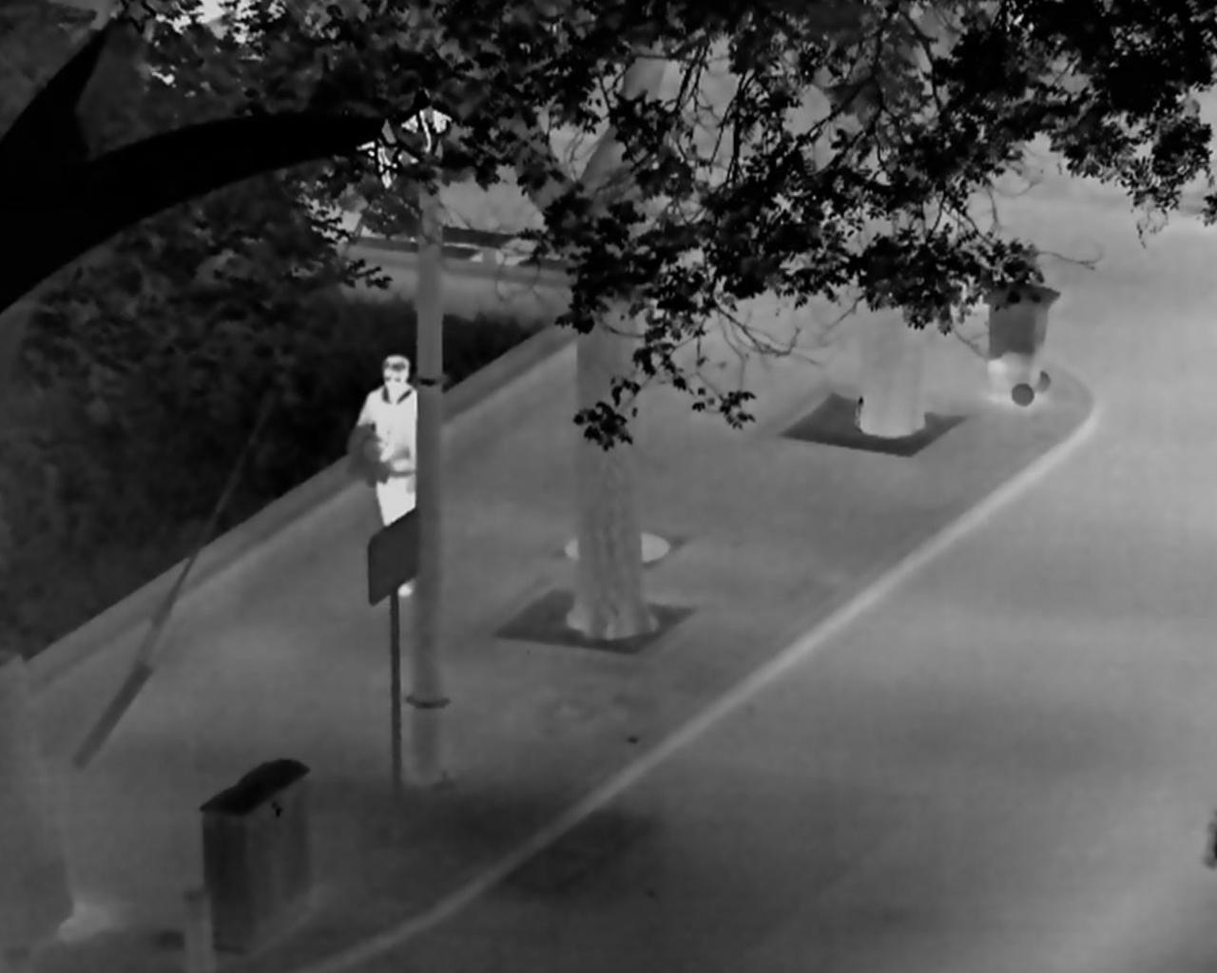person: (354, 353, 419, 597)
